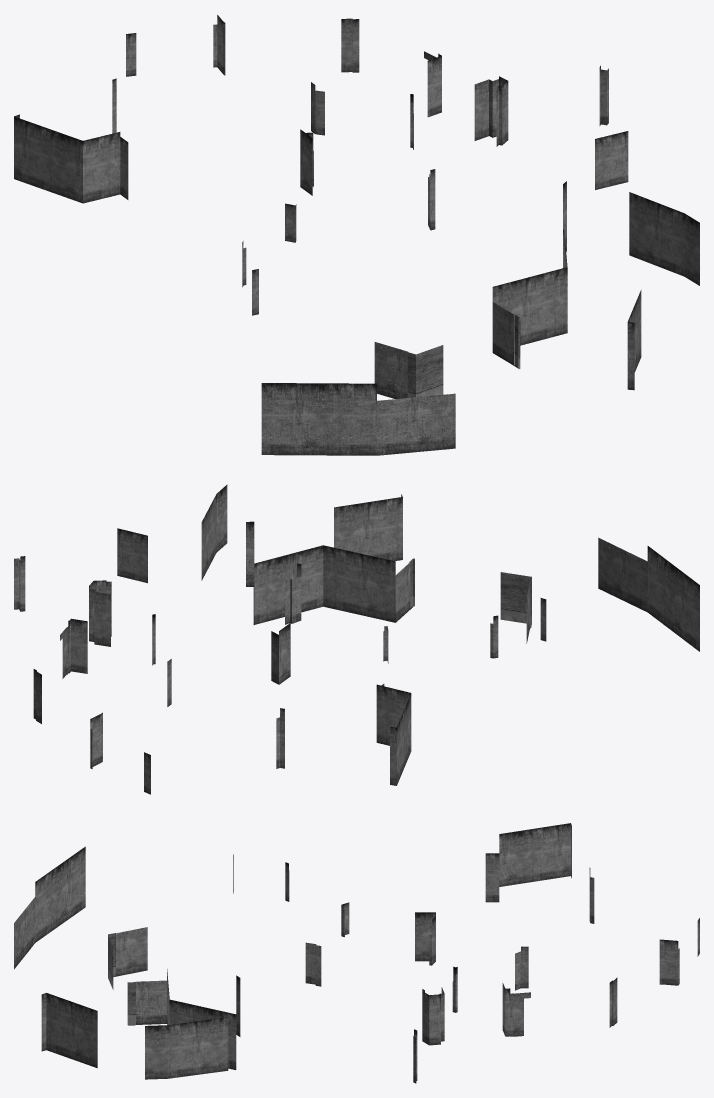
Rendered from filler.fbx.
The picture shows the model from 3 angles, top to bottom: view 1: azimuth 30°, elevation 25°; view 2: azimuth 150°, elevation 25°; view 3: azimuth 270°, elevation 25°; orthographic projection. The views are drawn at different scales.
Visible parts, largest first — view 1: filler_walls; view 2: filler_walls; view 3: filler_walls.
Boxes of the visible parts, <box> form: filler_walls: <box>14,15,699,455</box>; filler_walls: <box>14,484,699,794</box>; filler_walls: <box>14,823,699,1083</box>.
Bounding box in the file's own units: 6189 × 1331 × 8006.
